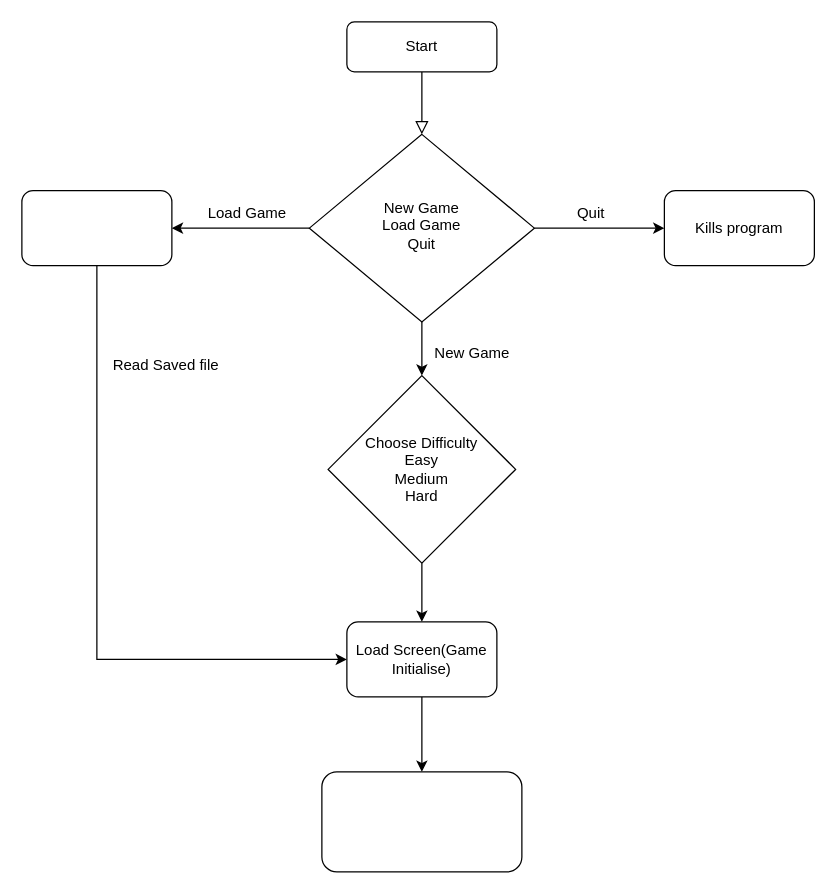
The diagram is 836 pixels wide and 894 high, and some of its shapes have lost their labels. Each missing label, with the centre of its shape:
"Runs Game program" goes at (x=421, y=821).
"Saved Games" goes at (x=96, y=227).
